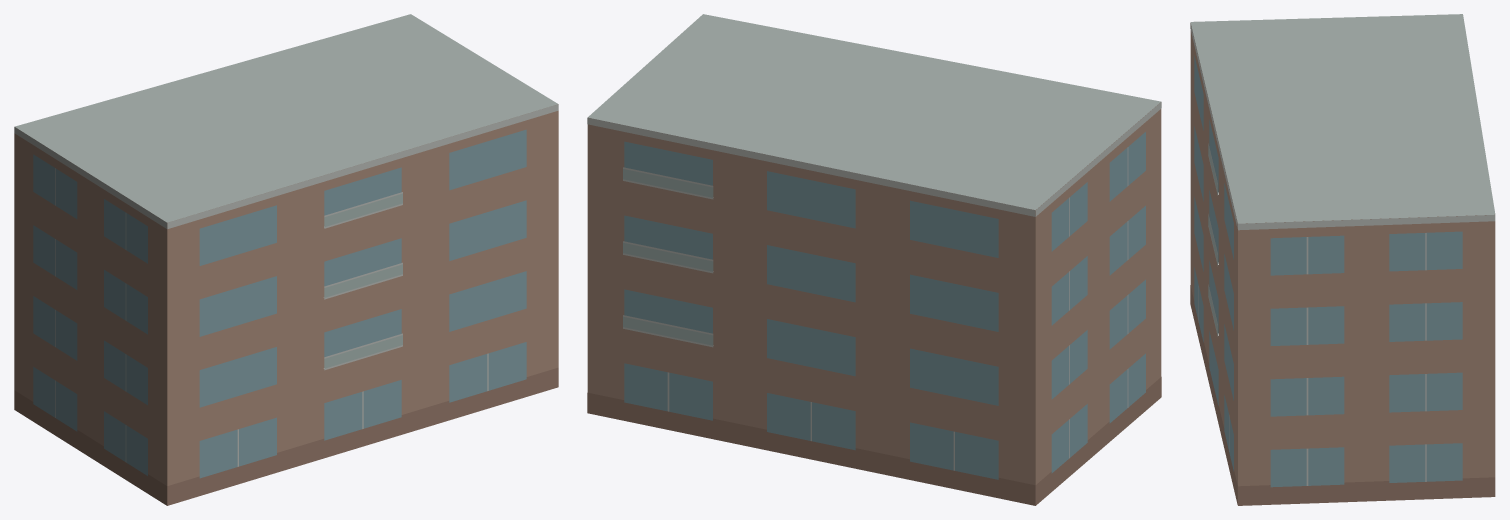
The model's file is survey-upis-32526937.glb.
The picture shows the model from 3 angles, left to right: view 1: azimuth 30°, elevation 25°; view 2: azimuth 150°, elevation 25°; view 3: azimuth 270°, elevation 25°; orthographic projection. The views are drawn at different scales.
Visible parts, largest first — view 1: survey-upis-32526937.tmp; view 2: survey-upis-32526937.tmp; view 3: survey-upis-32526937.tmp.
Boxes of the visible parts, bbox=[...] form: survey-upis-32526937.tmp: bbox=[14, 14, 558, 505]; survey-upis-32526937.tmp: bbox=[587, 14, 1161, 505]; survey-upis-32526937.tmp: bbox=[1190, 14, 1495, 505].
Size of the model in its own units: 16.91 by 10.6 by 10.4.
